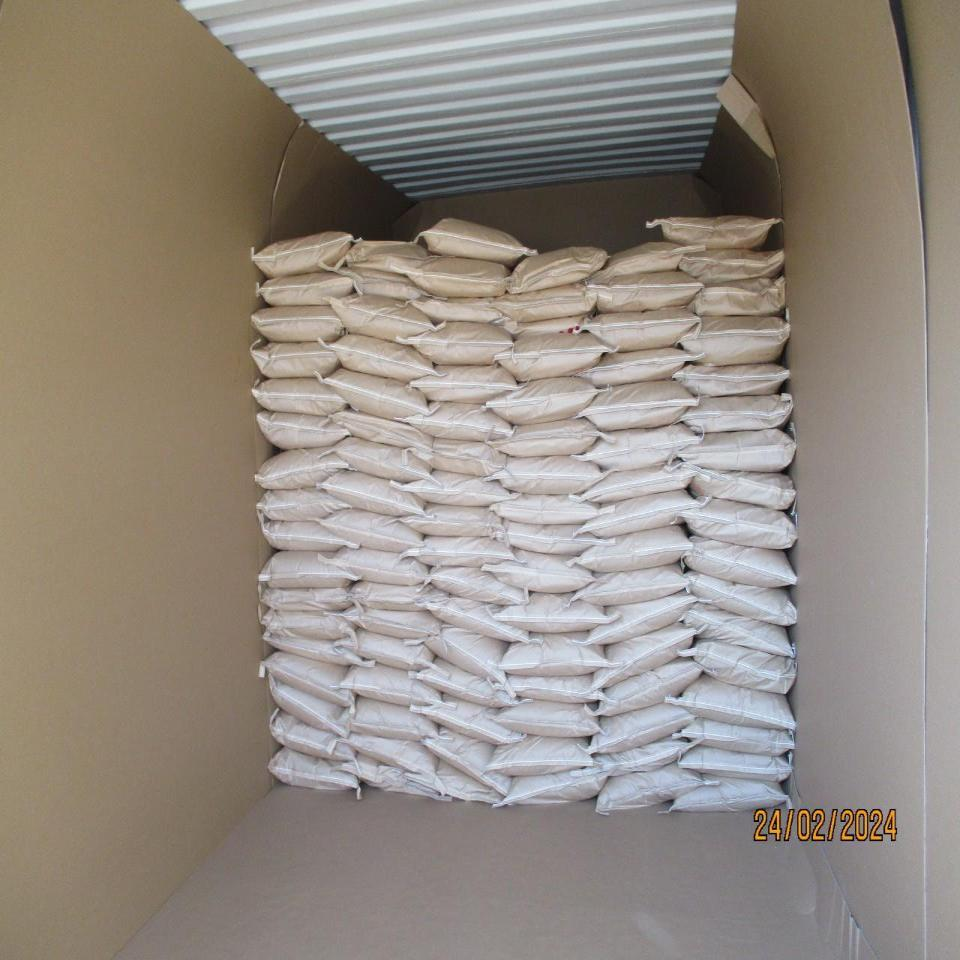bag: (683, 639, 798, 697), (679, 676, 796, 732), (682, 602, 797, 658), (596, 623, 692, 687), (683, 537, 797, 590), (347, 733, 444, 795), (498, 330, 617, 380), (685, 571, 795, 625), (329, 434, 445, 485), (579, 380, 695, 431), (592, 590, 699, 645), (423, 728, 512, 794), (426, 624, 513, 691), (598, 658, 702, 714), (326, 333, 443, 382), (411, 657, 528, 705), (577, 458, 696, 505), (589, 705, 696, 757), (413, 694, 524, 744), (583, 423, 701, 470), (678, 428, 796, 475), (320, 469, 430, 519), (488, 376, 607, 422), (685, 501, 796, 550), (328, 371, 435, 421), (487, 455, 611, 498), (495, 285, 600, 335), (579, 344, 704, 386), (684, 316, 791, 365), (580, 270, 704, 312), (399, 321, 514, 366), (584, 493, 704, 536), (578, 527, 689, 573), (422, 219, 538, 263), (264, 653, 357, 707), (673, 770, 792, 812), (483, 546, 594, 591), (494, 592, 618, 632), (584, 306, 698, 349), (330, 295, 443, 338), (491, 417, 612, 457), (503, 633, 615, 676), (494, 767, 618, 805), (432, 596, 530, 644), (320, 508, 426, 552), (252, 232, 353, 278), (588, 243, 710, 281), (596, 772, 718, 810), (341, 666, 451, 708), (507, 247, 607, 293), (270, 677, 351, 733), (500, 515, 617, 553), (649, 216, 779, 250), (334, 409, 436, 452), (407, 399, 509, 442), (681, 719, 796, 757), (408, 257, 511, 299), (487, 737, 595, 777), (578, 568, 688, 607), (339, 628, 435, 672), (403, 469, 511, 508), (683, 394, 791, 433), (270, 712, 357, 760), (255, 447, 349, 491), (674, 364, 792, 399), (591, 741, 702, 778), (690, 277, 787, 318), (432, 564, 524, 607), (345, 755, 438, 797), (690, 474, 798, 510), (269, 749, 359, 792), (413, 364, 517, 401), (409, 535, 525, 568), (343, 604, 443, 642), (266, 631, 371, 667), (399, 503, 505, 538), (681, 248, 787, 283), (339, 701, 438, 738), (335, 547, 431, 585), (495, 496, 609, 528), (498, 702, 599, 738), (337, 242, 443, 276), (413, 437, 505, 476), (260, 552, 358, 588), (253, 377, 345, 415), (257, 411, 351, 448), (257, 270, 353, 305), (257, 486, 350, 521), (252, 342, 340, 378), (410, 296, 514, 326), (261, 609, 363, 639), (253, 307, 342, 341), (263, 520, 359, 551), (438, 760, 506, 802), (509, 676, 608, 704), (353, 583, 449, 611), (261, 585, 358, 612), (339, 271, 432, 298)
